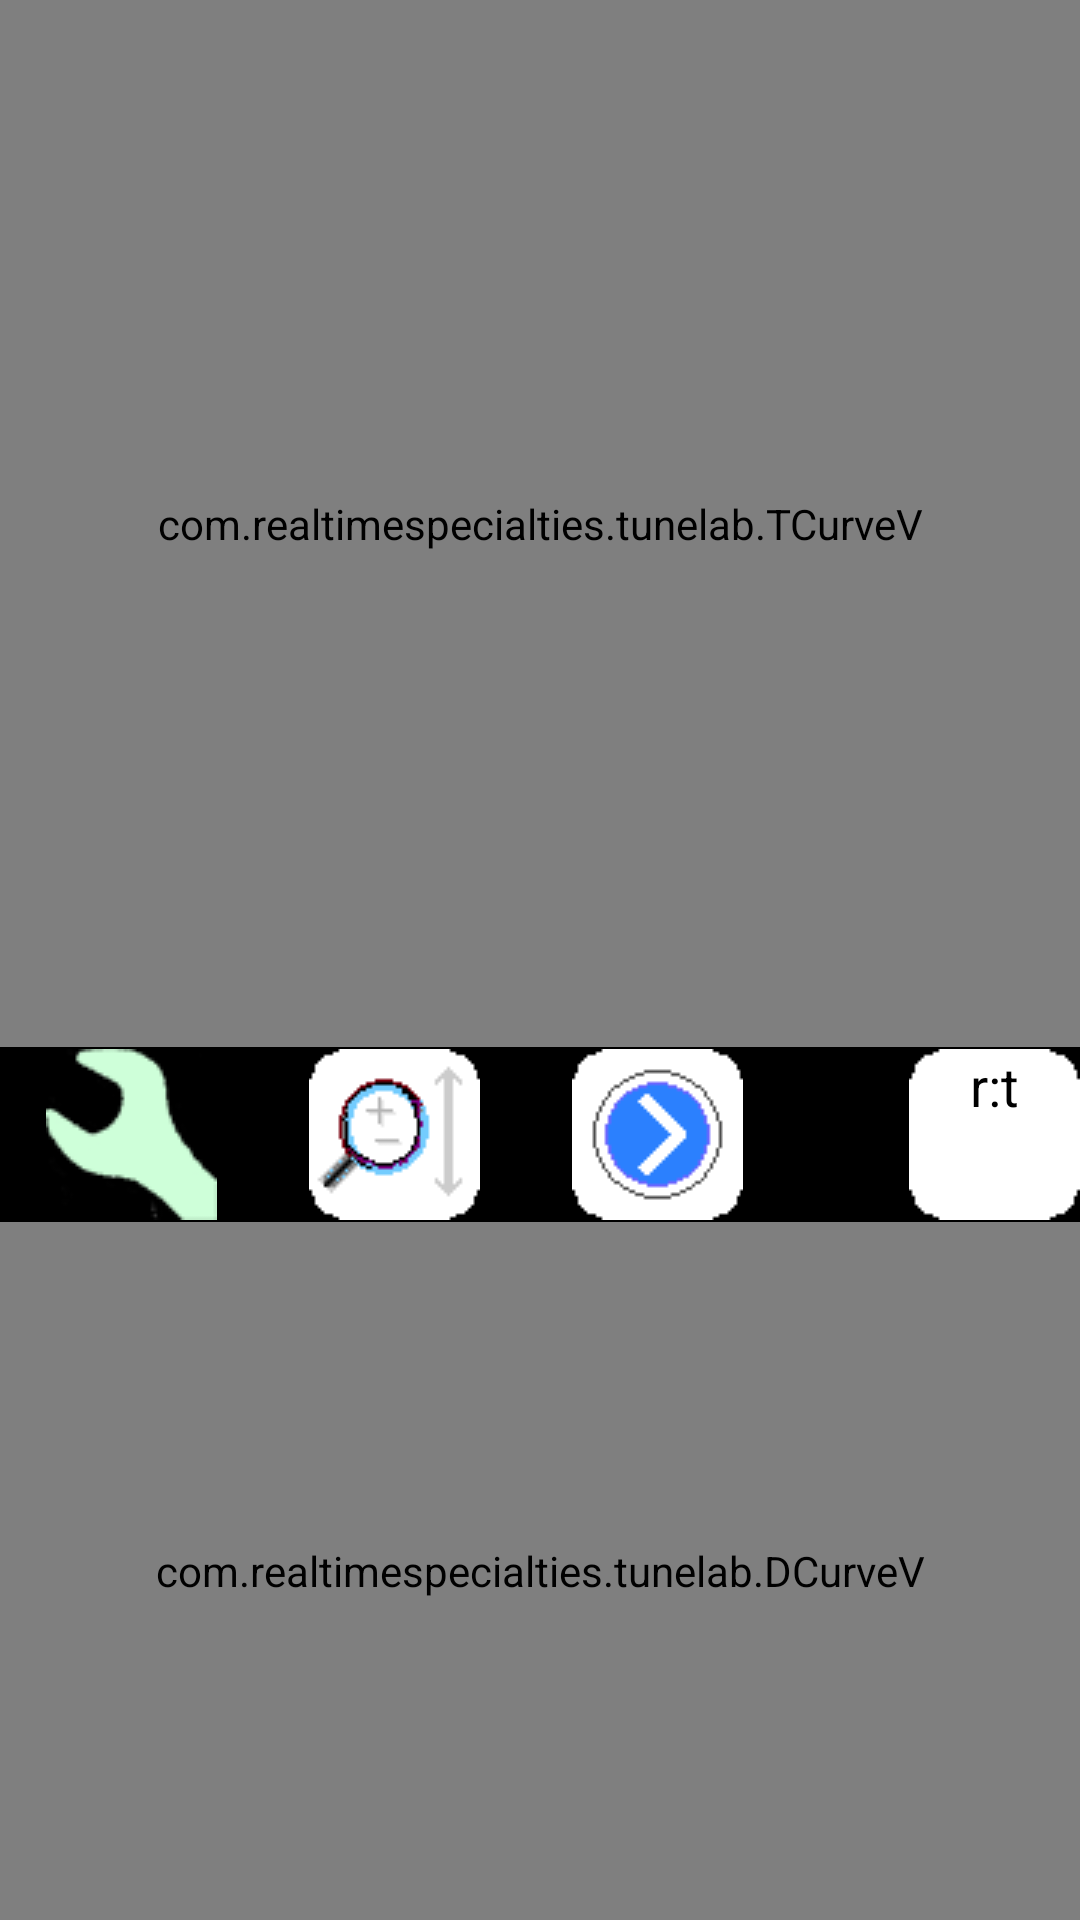

Screen size 1080×1920. Icon name, then its center in pixels as [x,y]:
wrench: [131,1134]
zoom: [394,1134]
